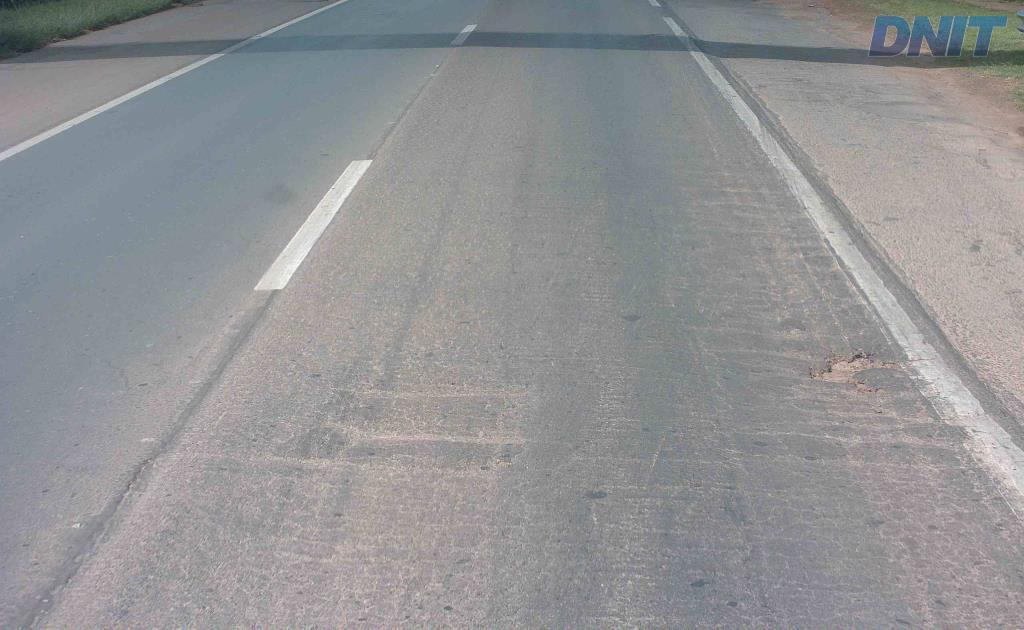pothole: (805, 342, 906, 401)
